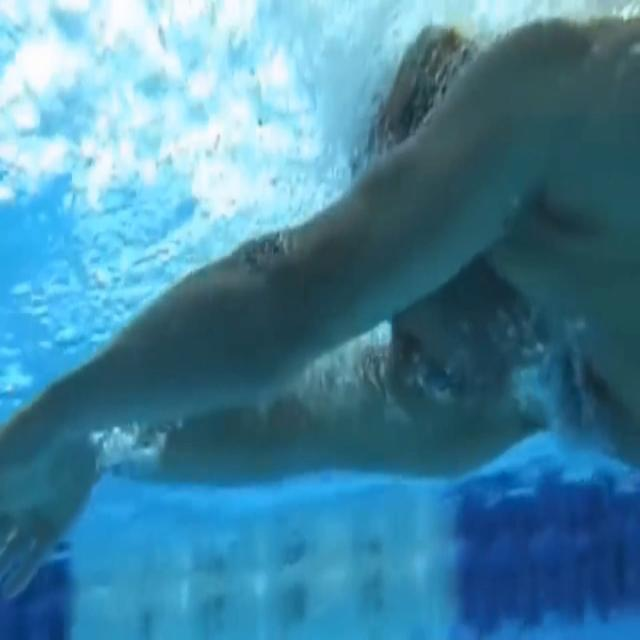Swimming: (335, 20, 640, 485)
